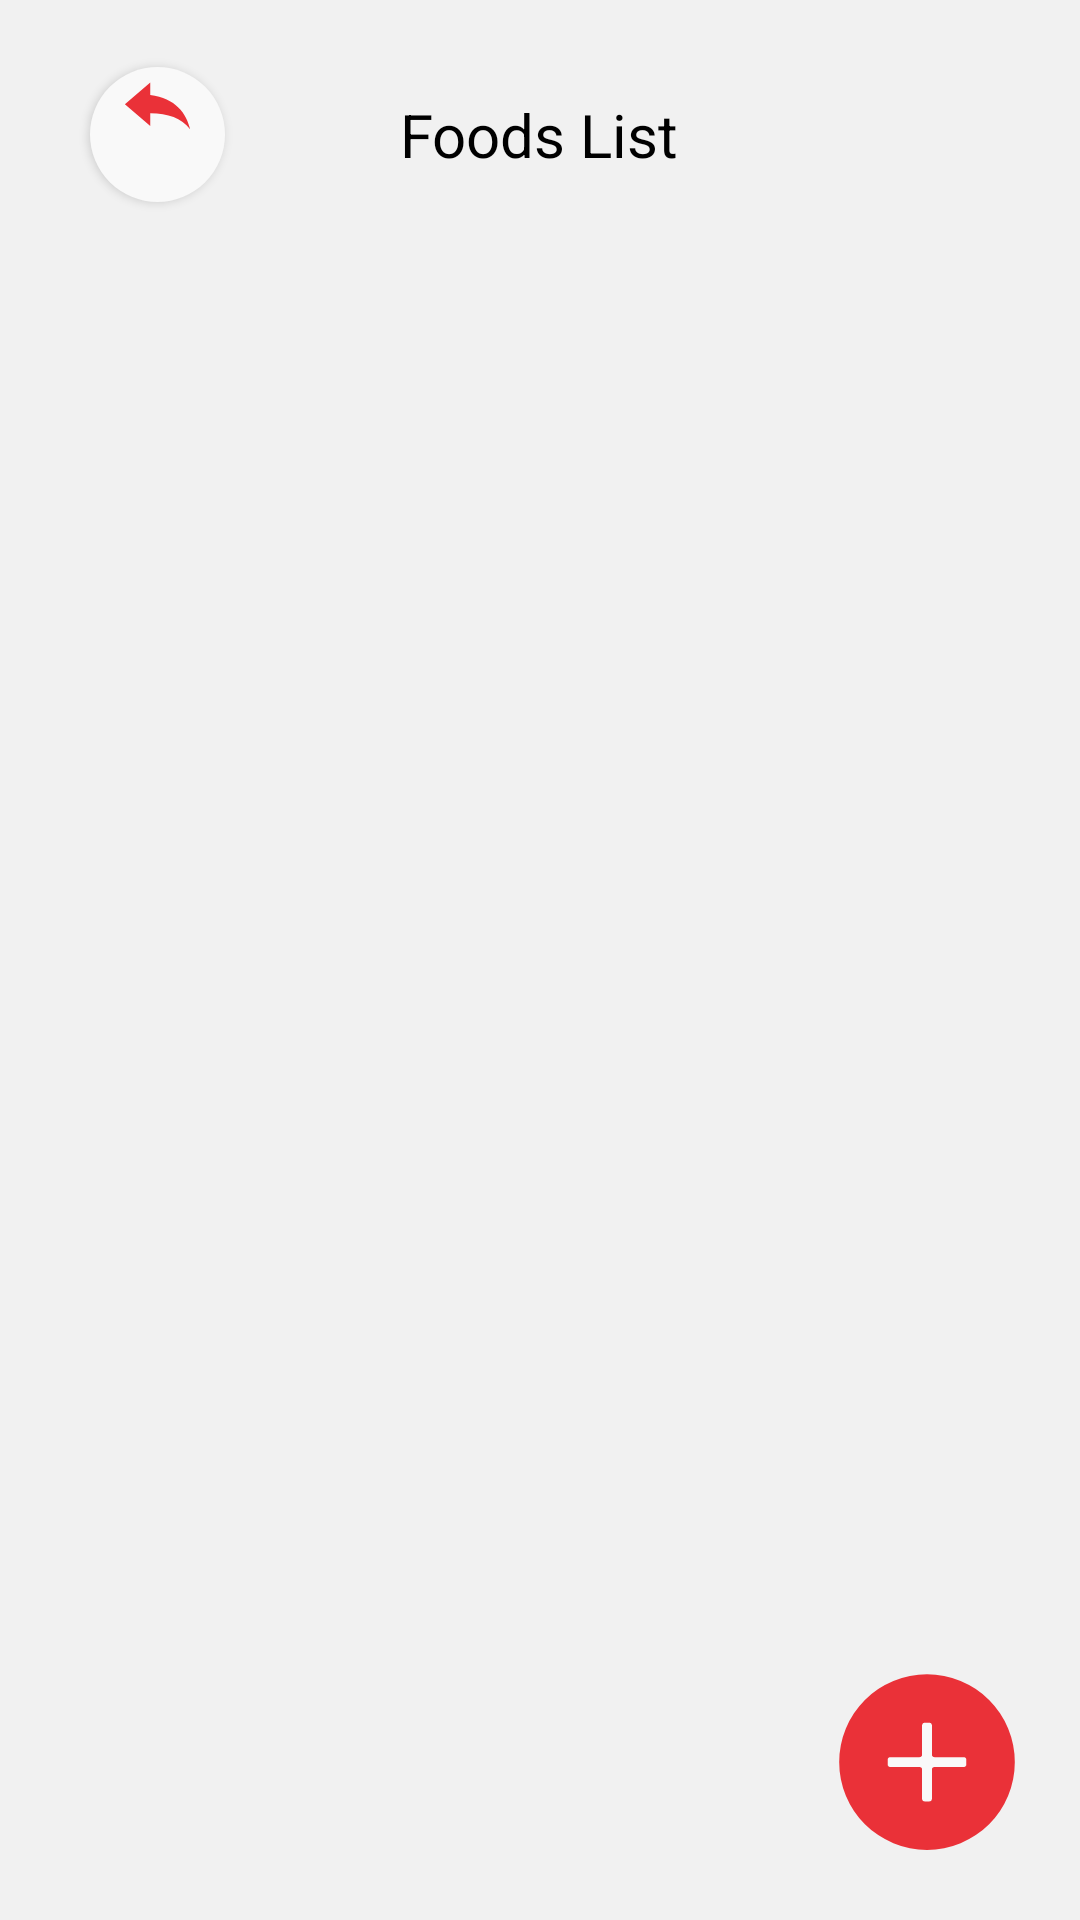

Where to tap for icons on this 1080px x 1920px app screen, as [x,y]:
add: [927,1762]
